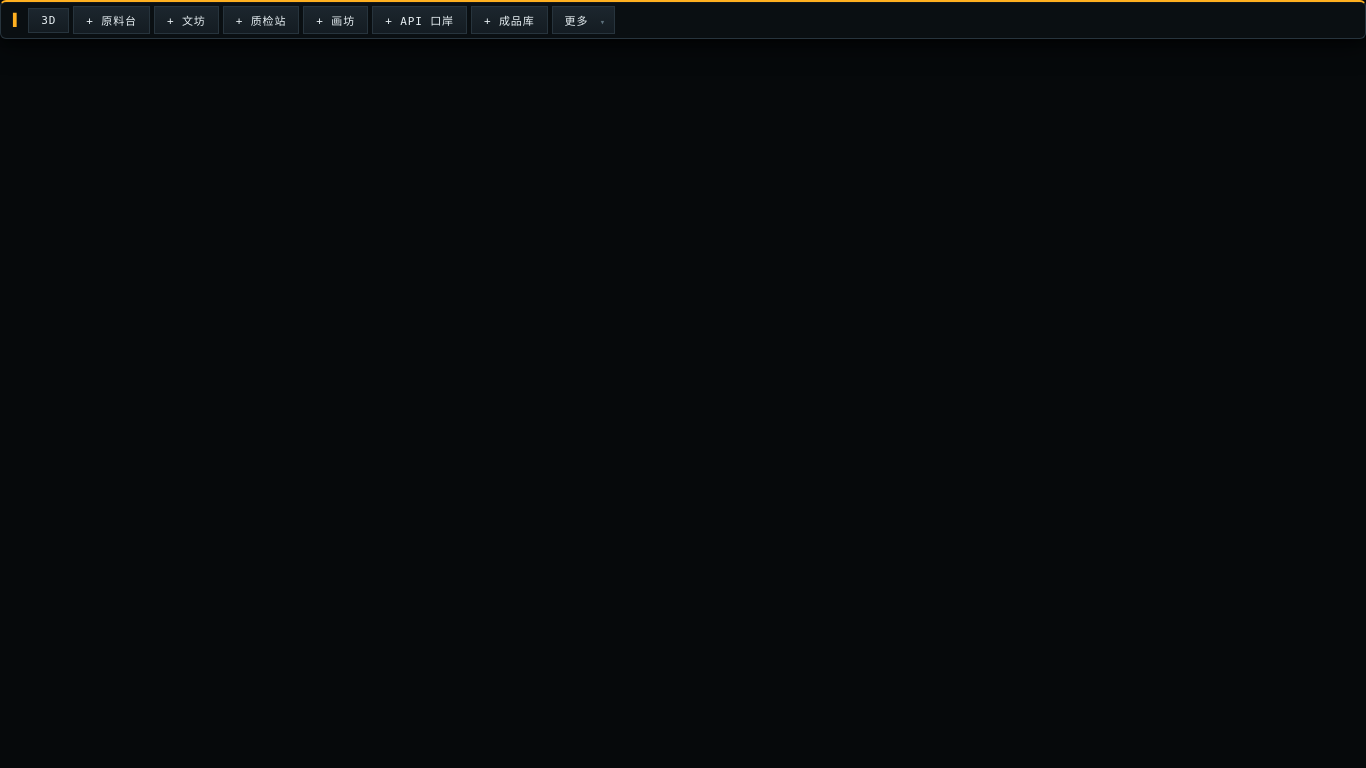
CanvasToolbar › 更多面板 › 点击'更多'按钮打开节点库面板
Click the button "更多 ▾" at (583, 20), box [552,6,615,34]
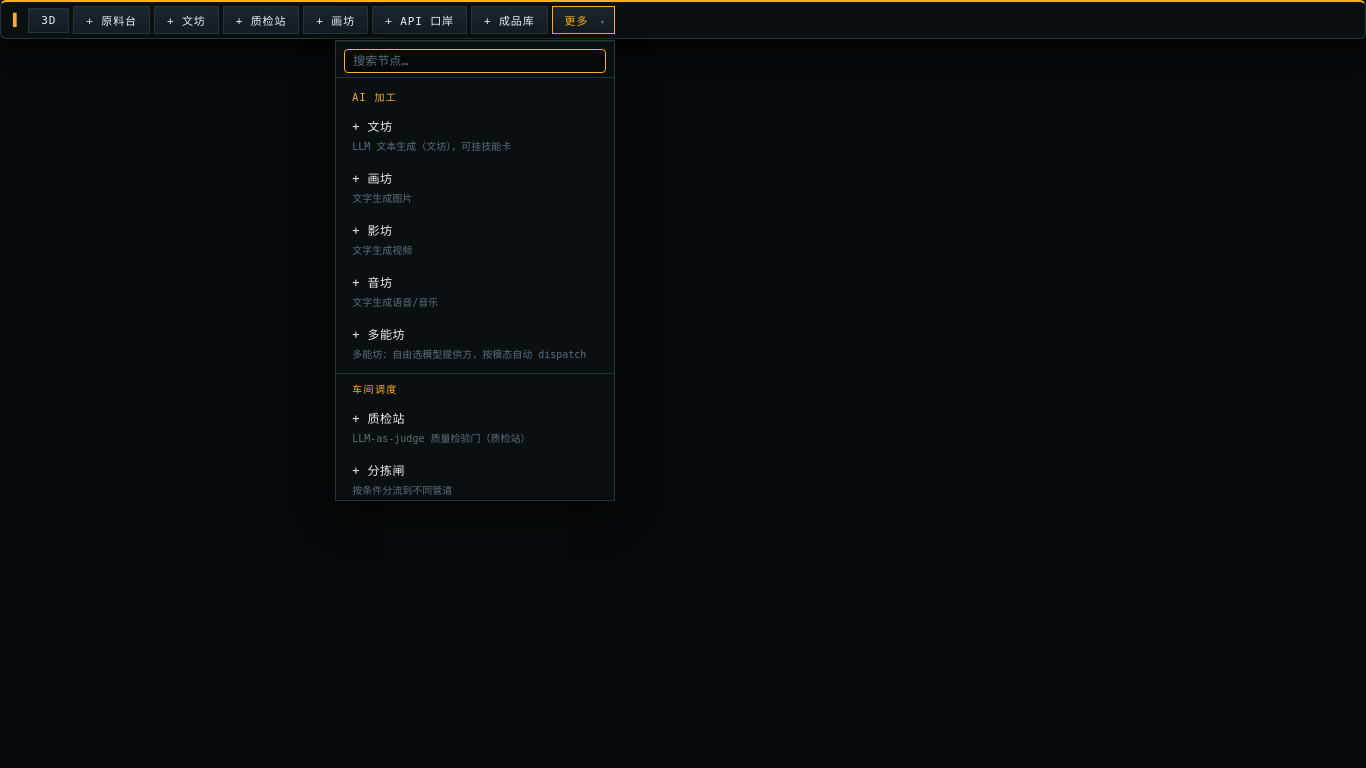
Expected: the dialog named "节点库" is shown, [335,40,615,501]
Expected: the button "更多 ▾" is expanded, [552,6,615,34]
